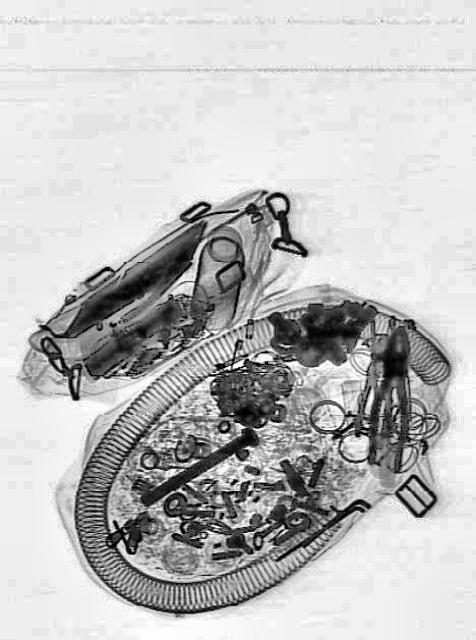Pliers: (364, 322, 416, 472), (351, 330, 402, 440)
